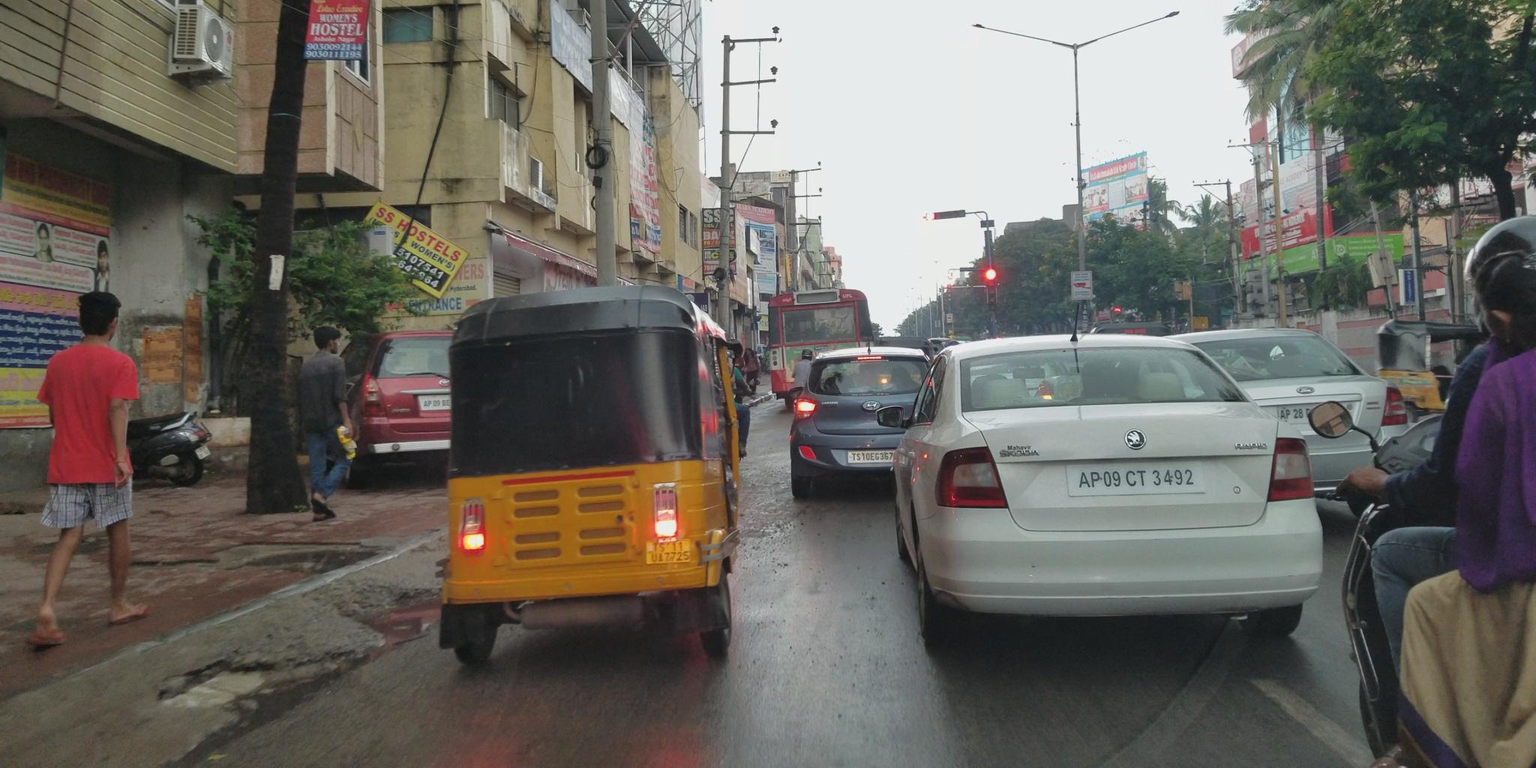streetlight: (944, 10, 1072, 56), (1069, 9, 1197, 54)
